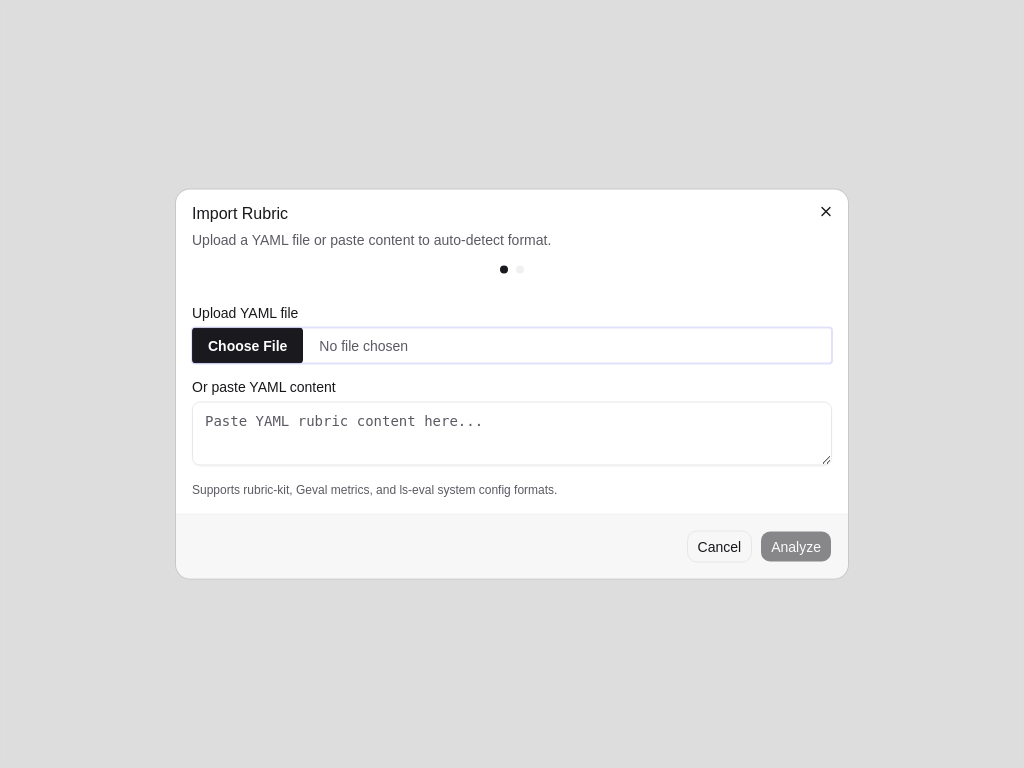
Test: RubricImportDialog › clears error when typing new content in step 1
Type "bad" into the text box with placeholder "Paste YAML rubric content here..." at (512, 434), box [192,402,832,466]
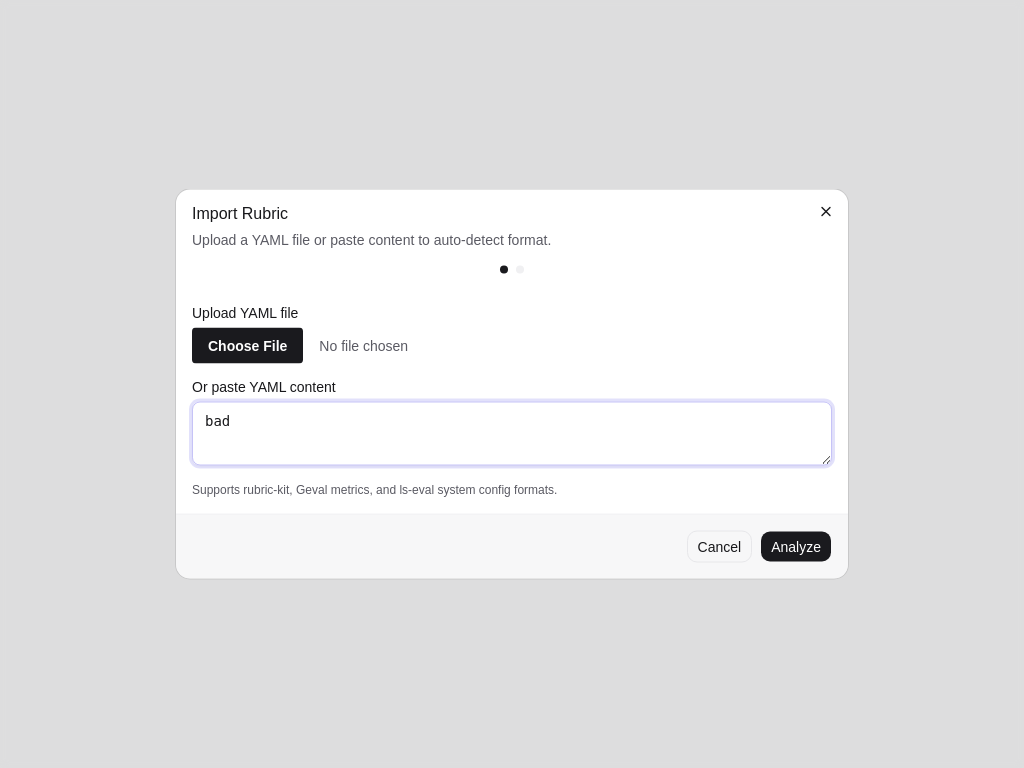
Click the button with test id "analyze-button" at (796, 546), box [760,530,832,562]
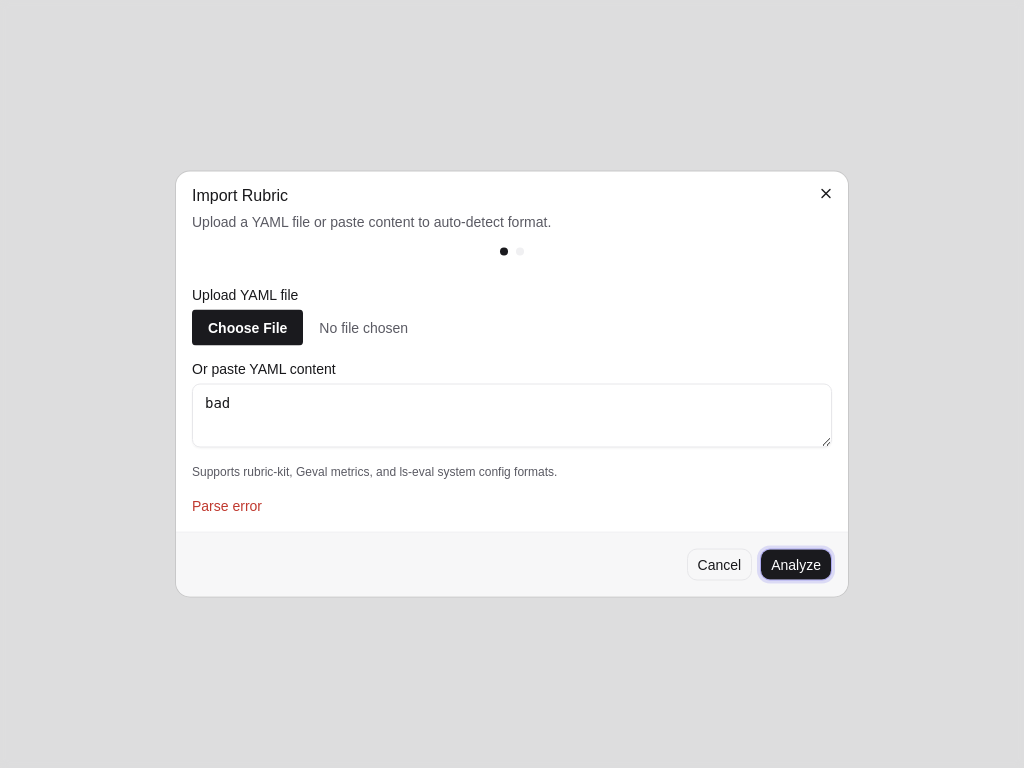
Check: the text "Parse error" is shown, box [192,498,262,514]
Note: Typing more content should clear the error
Type " yaml" into the text box with placeholder "Paste YAML rubric content here..." at (512, 416), box [192,384,832,448]
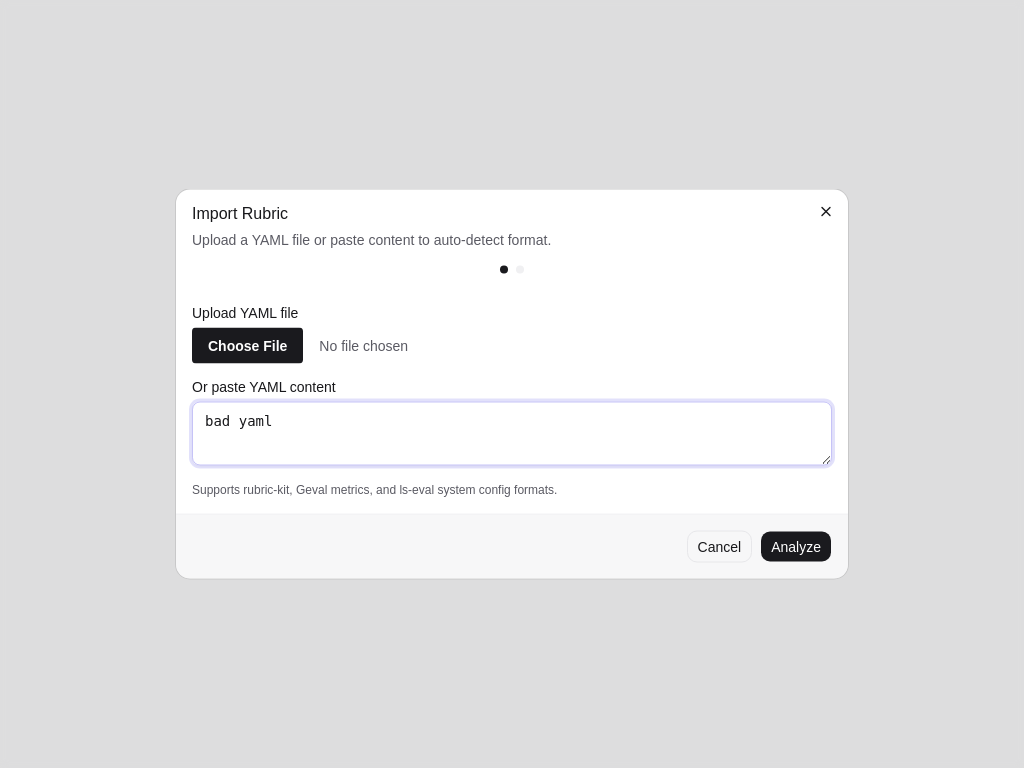
Check: the text "Parse error" is gone
